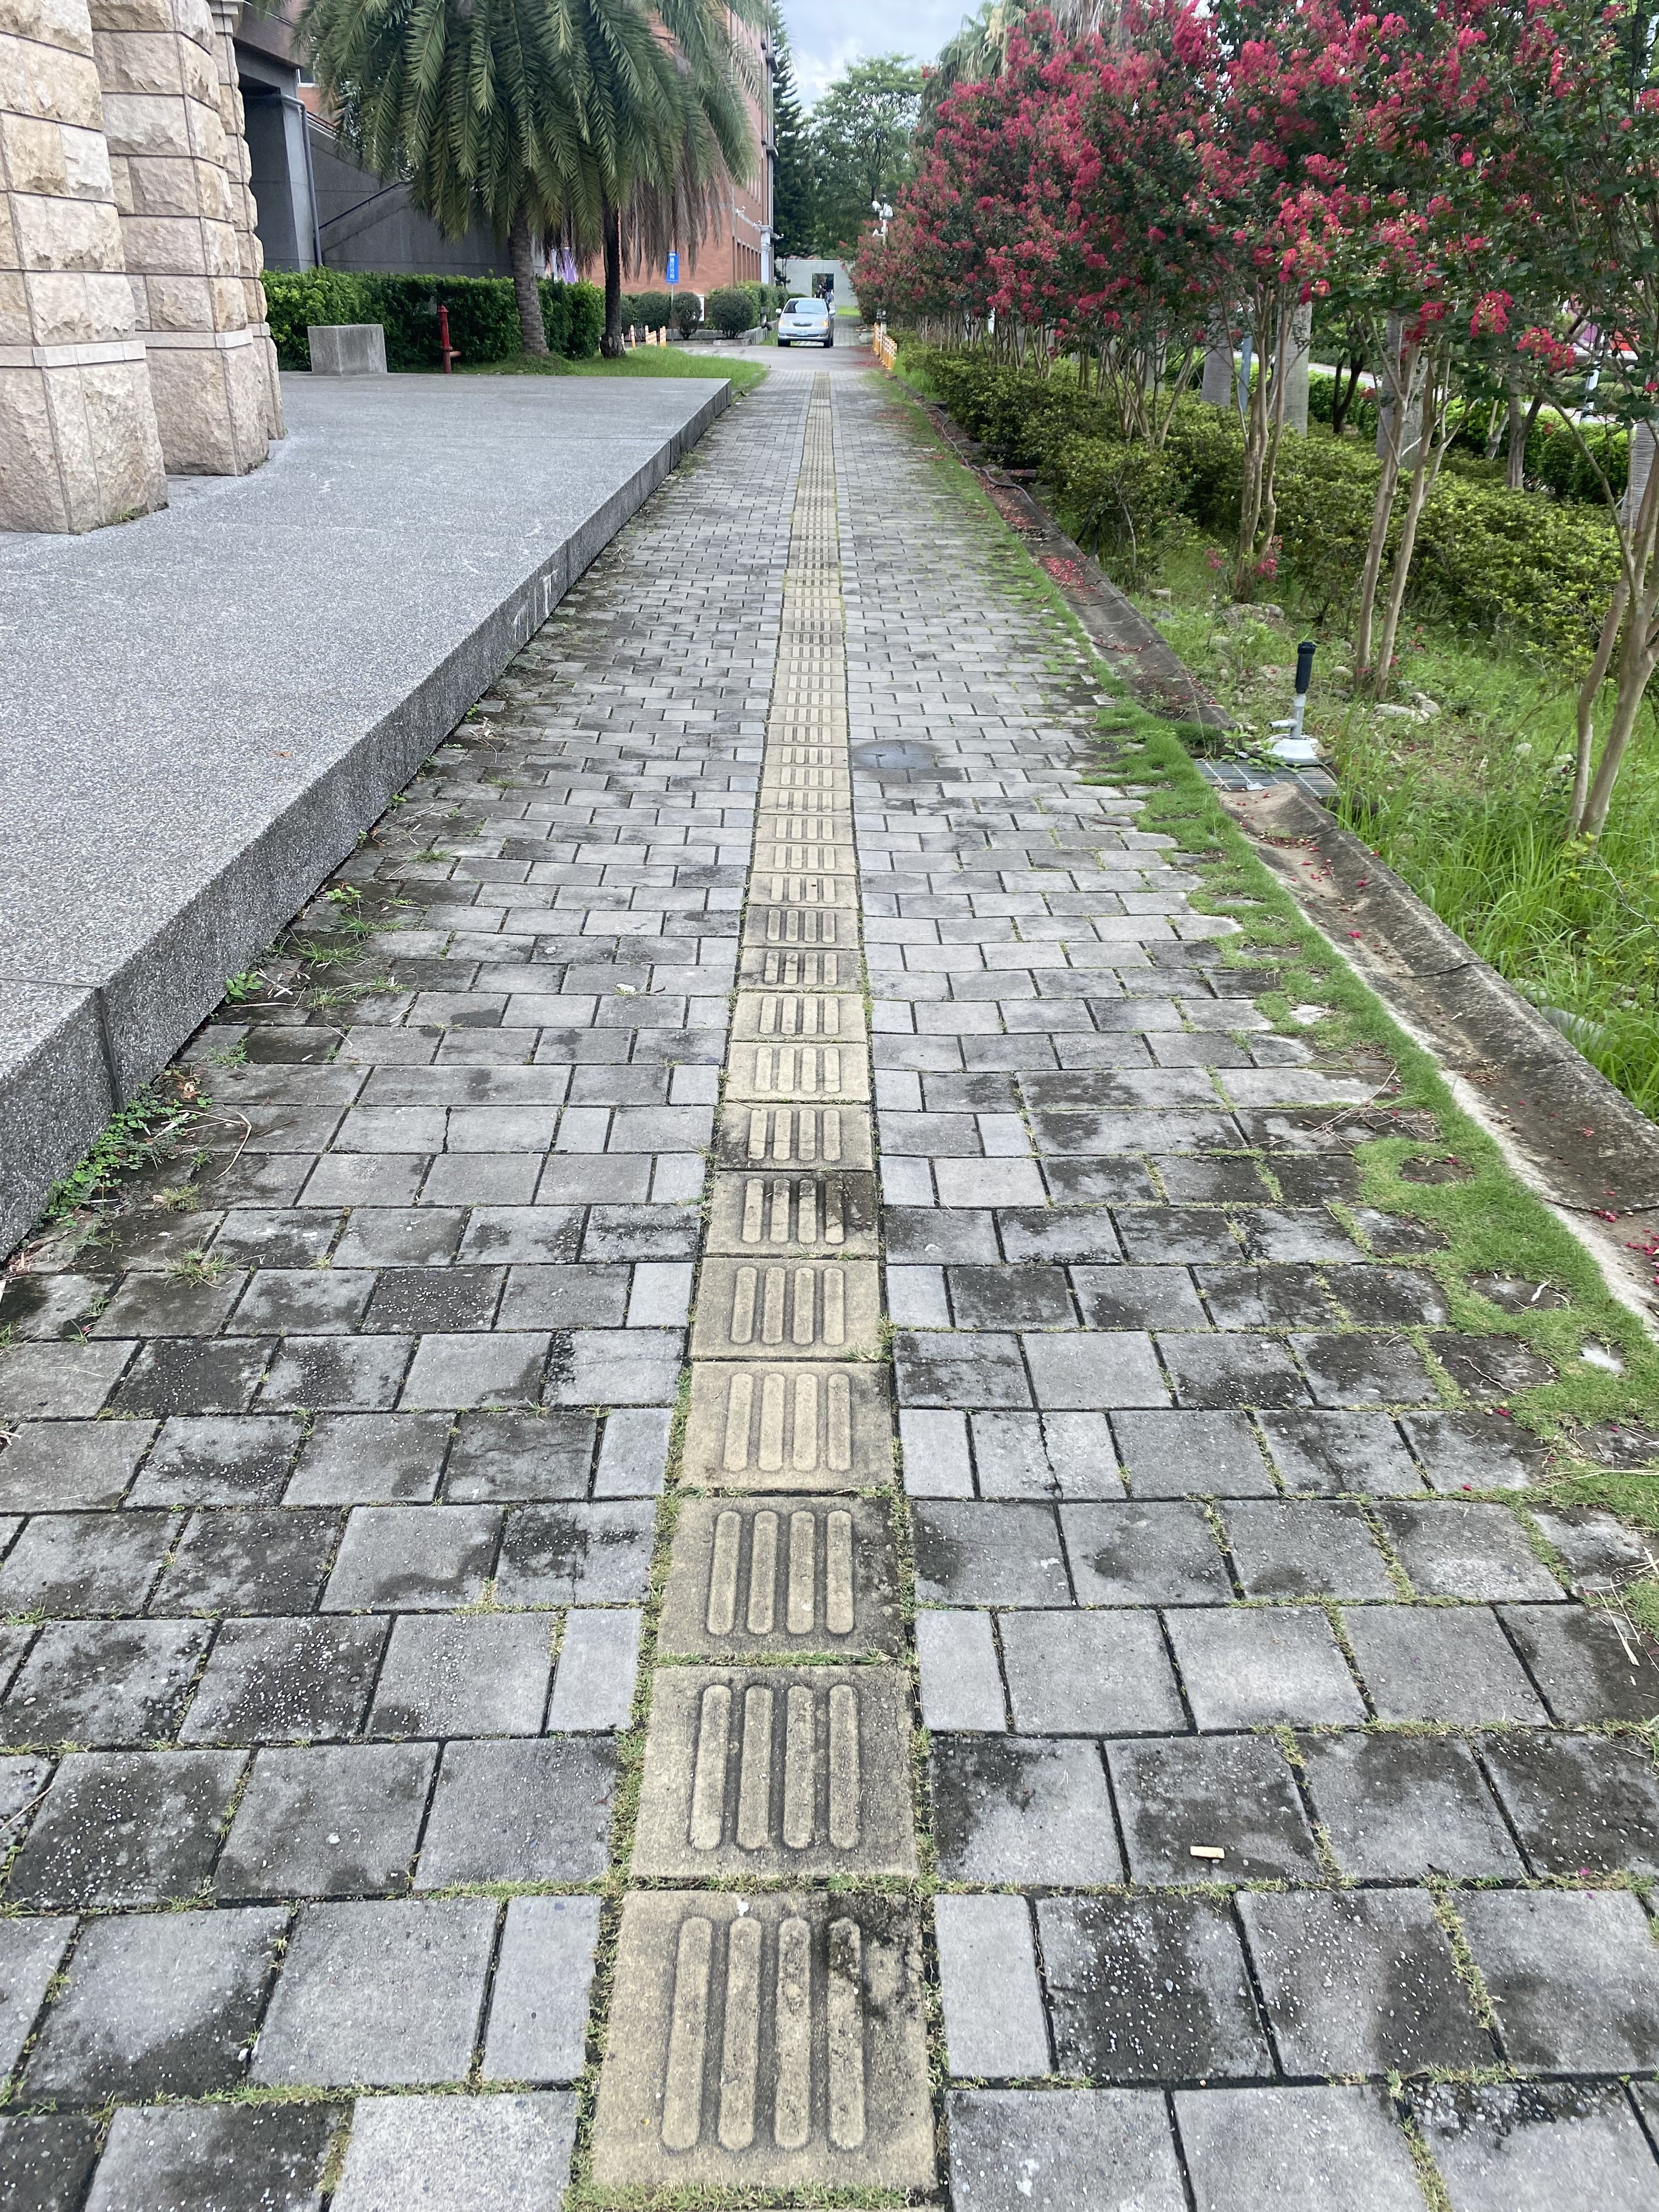0: (3, 650, 1659, 2212)
sidewalk: (580, 369, 1248, 1580)
